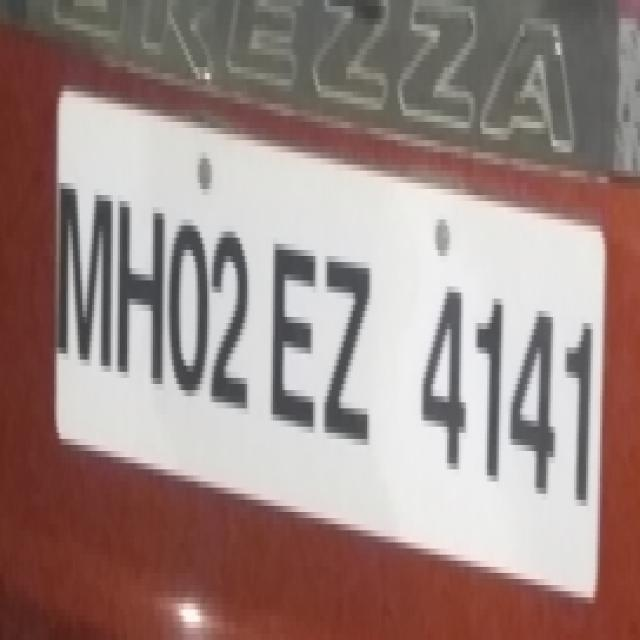0: (165, 206, 209, 412)
1: (562, 313, 596, 514), (474, 287, 505, 497)
4: (414, 268, 470, 482), (510, 298, 557, 508)
E: (266, 226, 318, 436)
H: (118, 172, 164, 402)
M: (52, 165, 114, 381)
Z: (323, 234, 379, 453)
